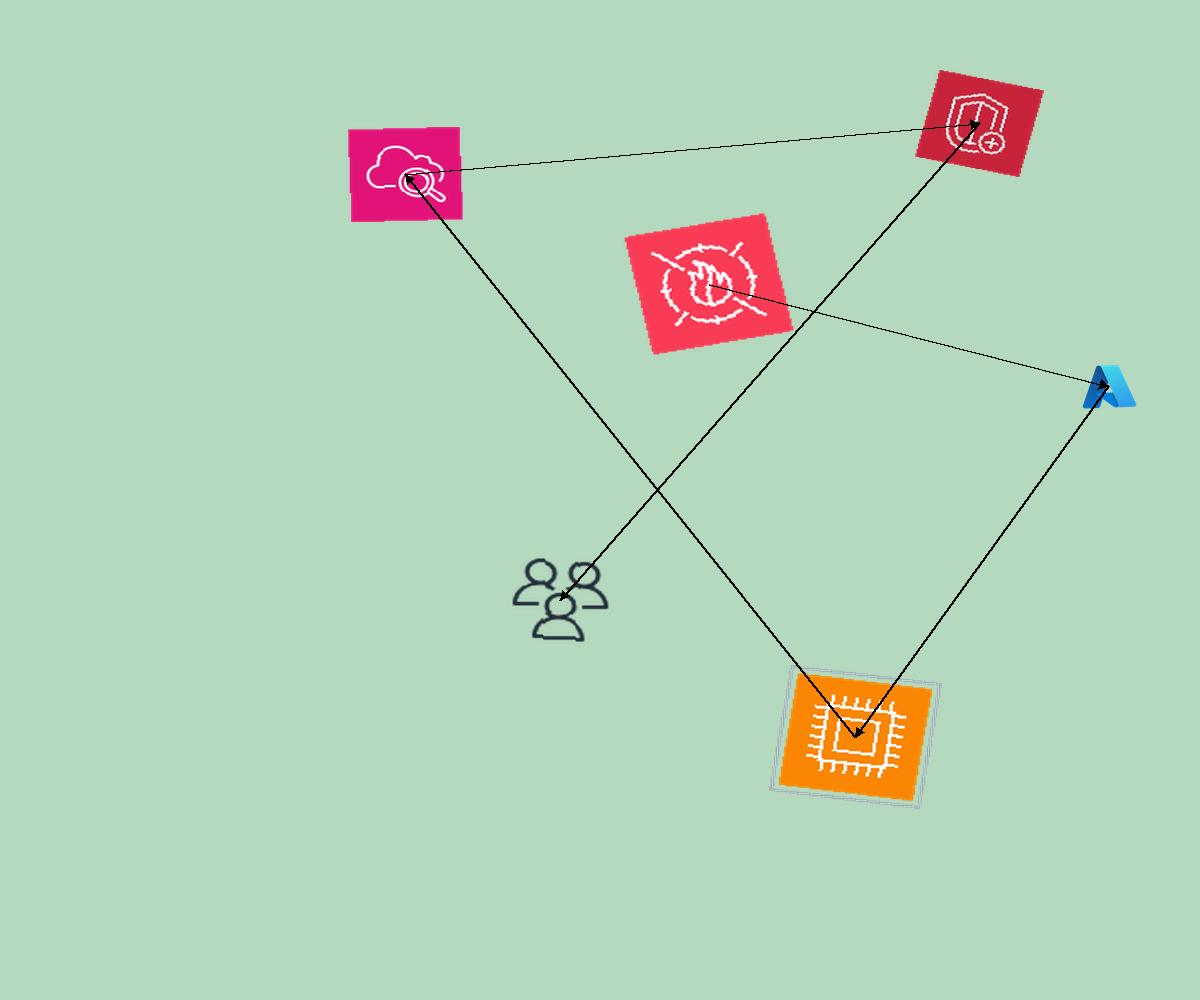AWS-Category_Compute: (769, 665, 942, 809)
AWS-CloudWatch: (347, 126, 464, 223)
AWS-Res_Users: (504, 553, 617, 647)
AWS-Shield: (914, 69, 1045, 178)
AWS-WAF: (623, 212, 795, 356)
Azure_services: (1078, 361, 1139, 412)
